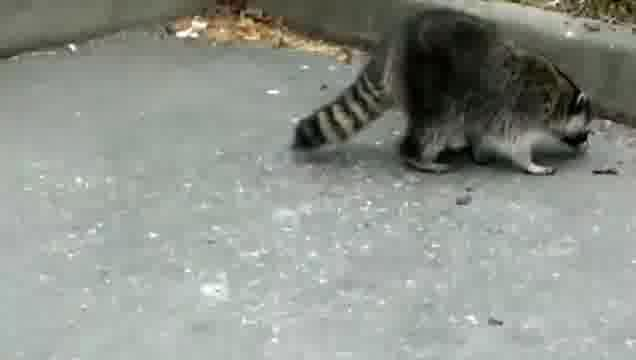raccoon: (283, 4, 596, 181)
